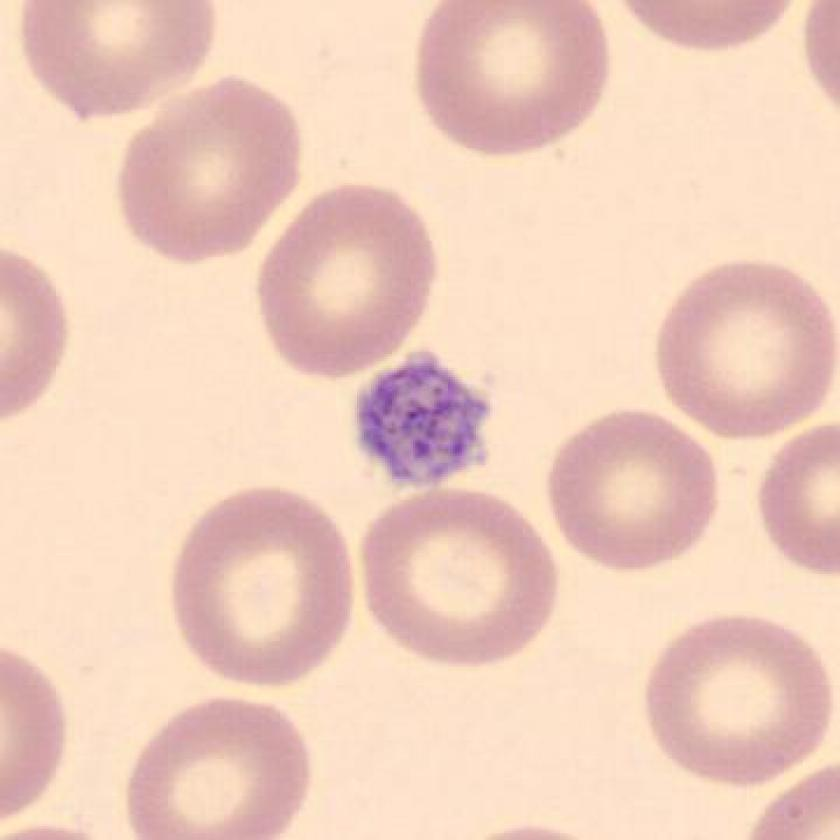platelets: (347, 341, 501, 506)
